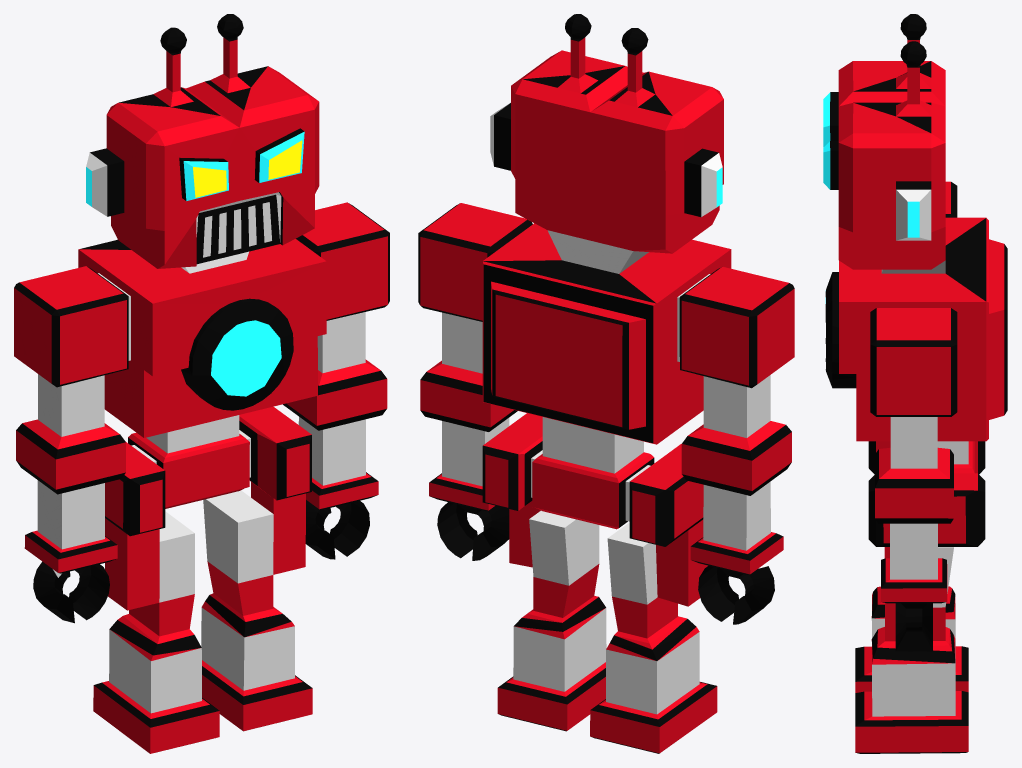
File: Robo1.fbx
The picture shows the model from 3 angles, left to right: view 1: azimuth 30°, elevation 25°; view 2: azimuth 150°, elevation 25°; view 3: azimuth 270°, elevation 25°; orthographic projection.
Parts seen in each view (by area): view 1: Cube; view 2: Cube; view 3: Cube.
Part boxes in pixels (bbox=[...]): Cube: bbox=[14, 14, 389, 753]; Cube: bbox=[418, 14, 794, 753]; Cube: bbox=[823, 14, 1007, 753].
Size of the model in its own units: 196 by 385 by 93.6.
